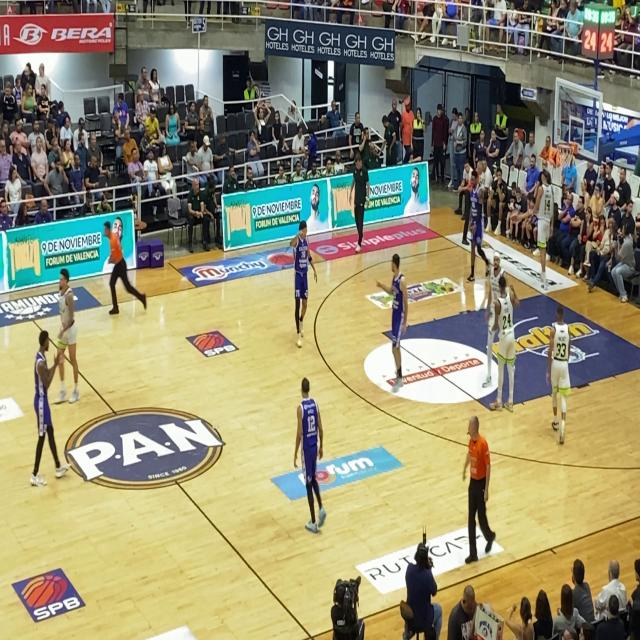referee: (461, 407, 506, 563)
team1: (486, 261, 524, 425), (45, 258, 80, 417), (543, 297, 575, 448)
team2: (284, 371, 326, 534), (381, 236, 414, 428), (24, 318, 61, 479), (280, 210, 313, 334)
